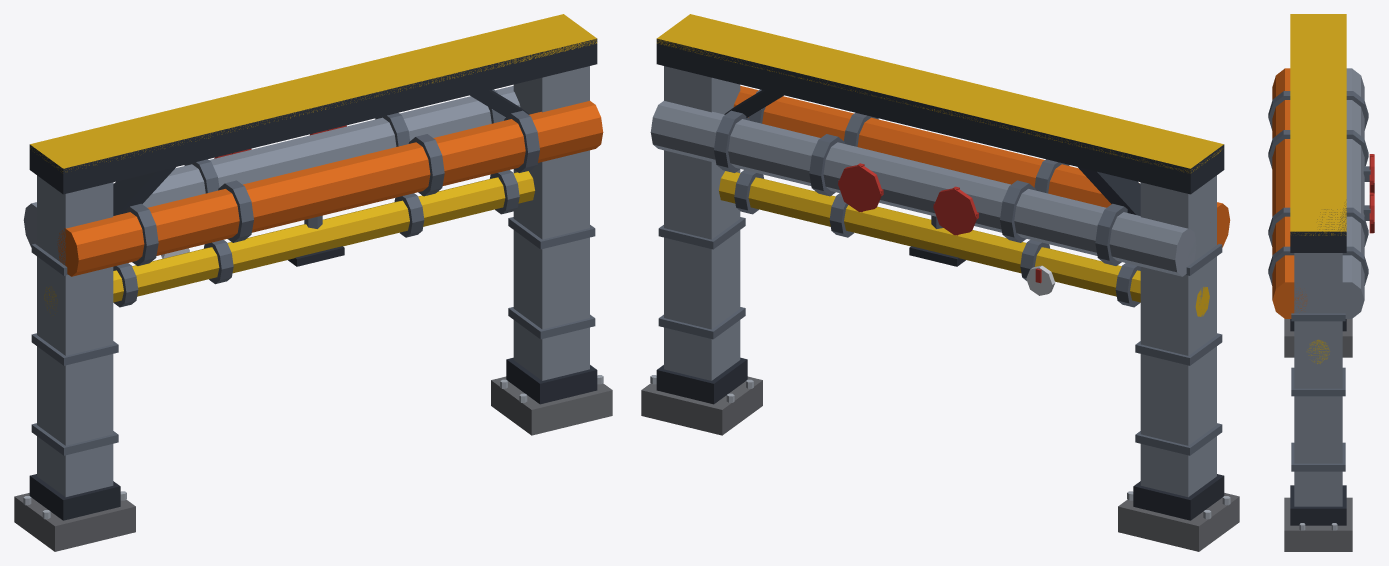
Rendered from Decor_RobotFactory_Pipes.fbx.
3 views of the same model, side by side, from view 1: azimuth 30°, elevation 25°; view 2: azimuth 150°, elevation 25°; view 3: azimuth 270°, elevation 25° (orthographic). The views are drawn at different scales.
Parts seen in each view (by area): view 1: Pipes_Body; view 2: Pipes_Body; view 3: Pipes_Body.
Part boxes in pixels (x1,y1,x2,y2): Pipes_Body: (14,14,612,551); Pipes_Body: (641,14,1239,551); Pipes_Body: (1268,14,1374,551).
Size of the model in its own units: 23.4 by 15.1 by 4.6.
